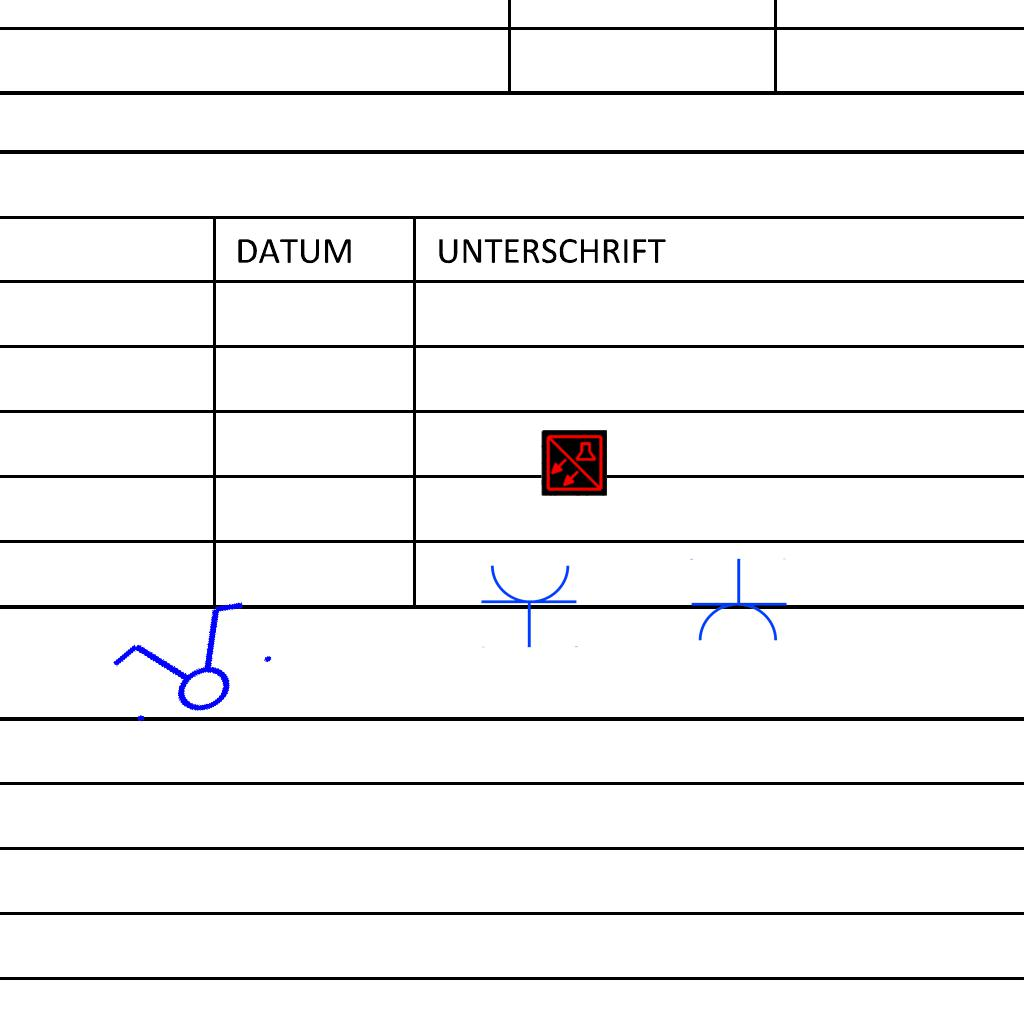OKW_Multisensormelder_(Kombination_optischer_Rauch-Kahlenmonoxid_Waerme-Melder): (541, 430, 607, 496)
Schukosteckdose_einfach: (480, 561, 580, 648), (688, 558, 788, 645)
Serienschalter: (95, 586, 289, 746)
